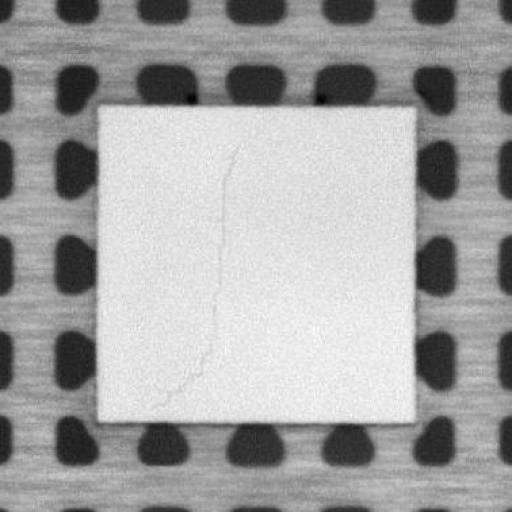DIE_CRACK: (148, 142, 241, 409)
